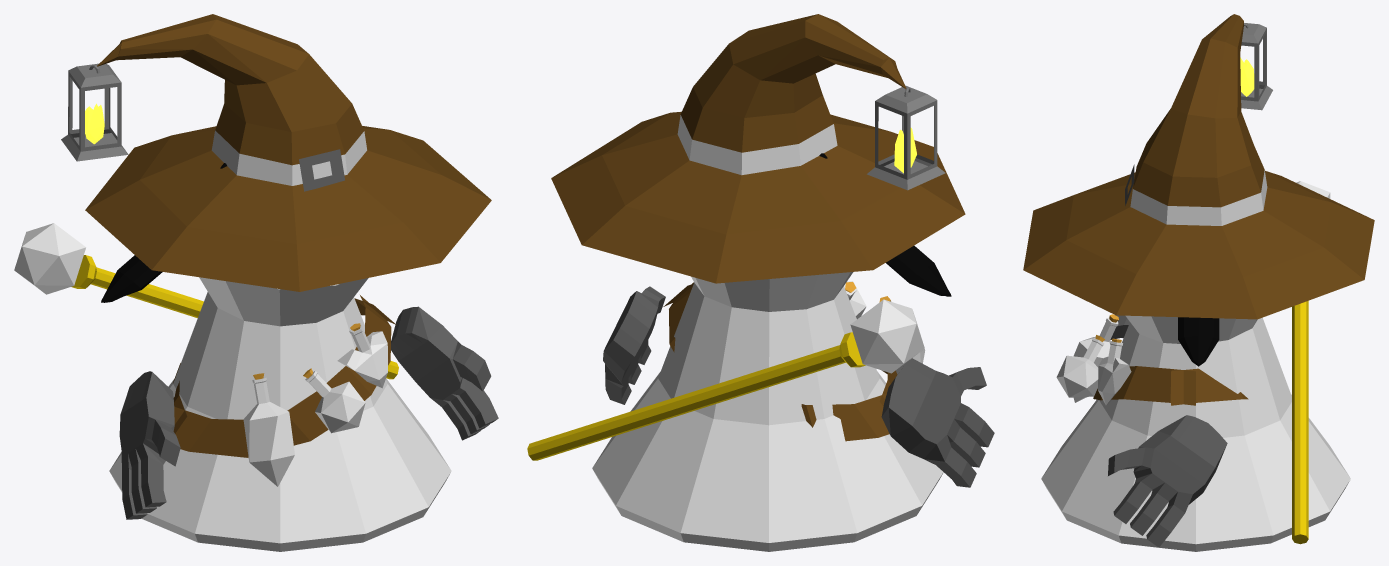
Rendered from Reference.fbx.
The picture shows the model from 3 angles, left to right: view 1: azimuth 30°, elevation 25°; view 2: azimuth 150°, elevation 25°; view 3: azimuth 270°, elevation 25°; orthographic projection. The views are drawn at different scales.
Visible parts, largest first — view 1: Gorro, Cuerpo, Mano, Cinto, Baston, Lampara, Icosphere.002, Icosphere.009, Icosphere.015, Oreja, Plane.001, Icosphere.014; view 2: Gorro, Cuerpo, Mano, Baston, Lampara, Cinto, Oreja; view 3: Gorro, Cuerpo, Mano, Baston, Cinto, Icosphere.009, Oreja, Lampara, Icosphere.015, Icosphere.002, Icosphere.014.
Part boxes in pixels (x1,y1,x2,y2): Gorro: (85, 14, 491, 291); Cuerpo: (109, 277, 451, 551); Mano: (119, 306, 498, 519); Cinto: (173, 295, 396, 457); Baston: (14, 223, 398, 379); Lampara: (61, 63, 128, 161); Icosphere.002: (243, 377, 294, 486); Icosphere.009: (305, 370, 365, 433); Icosphere.015: (337, 325, 387, 388); Oreja: (101, 255, 162, 302); Plane.001: (299, 149, 344, 191); Icosphere.014: (85, 103, 104, 144); Gorro: (551, 14, 965, 283); Cuerpo: (592, 272, 943, 551); Mano: (603, 286, 994, 487); Baston: (527, 299, 924, 460); Lampara: (867, 85, 945, 190); Cinto: (663, 282, 897, 441); Oreja: (886, 245, 951, 296); Gorro: (1023, 14, 1374, 319); Cuerpo: (1041, 315, 1350, 551); Mano: (1108, 315, 1227, 547); Baston: (1292, 181, 1330, 544); Cinto: (1093, 366, 1248, 405); Icosphere.009: (1056, 338, 1104, 397); Oreja: (1178, 317, 1219, 366); Lampara: (1241, 23, 1272, 110); Icosphere.015: (1098, 341, 1131, 404); Icosphere.002: (1073, 317, 1118, 402); Icosphere.014: (1240, 57, 1254, 96).
Bounding box in the file's own units: 110 × 131 × 98.14.
